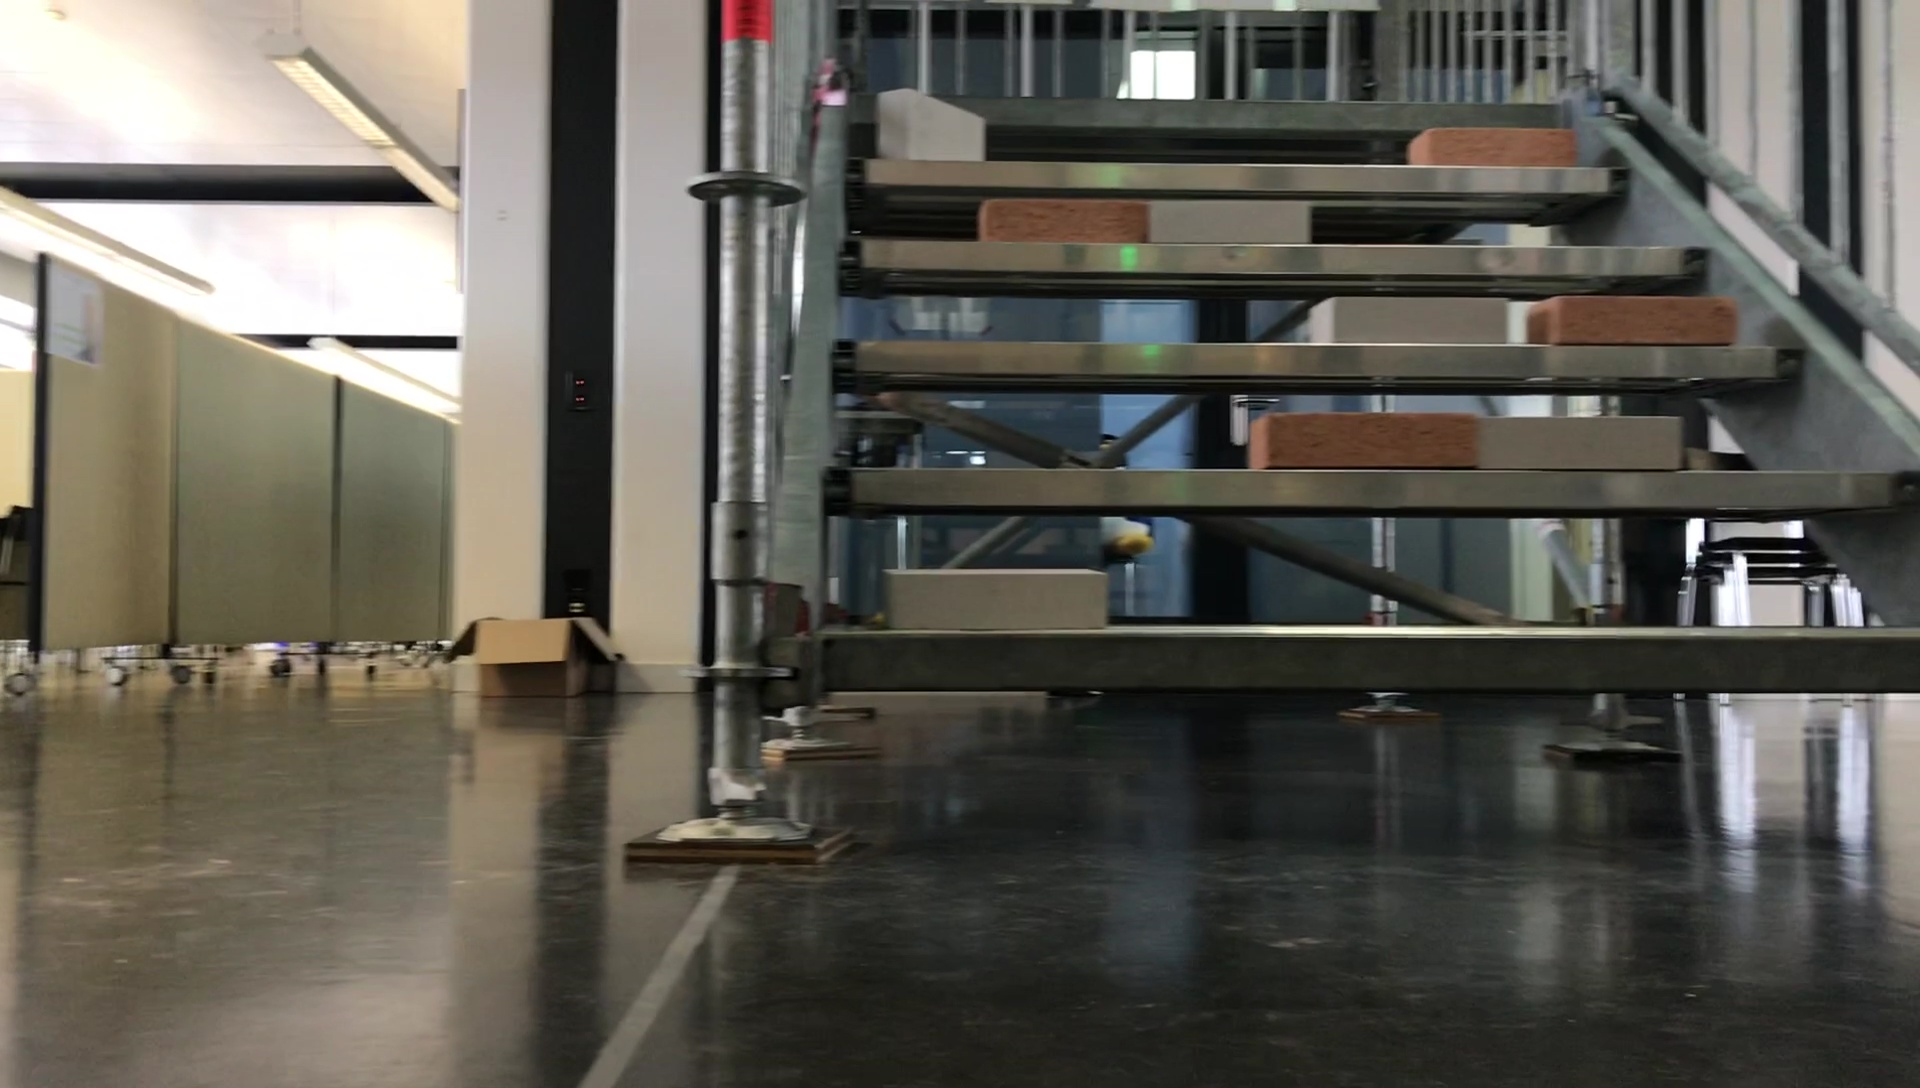brick: (874, 553, 1112, 633), (1255, 404, 1462, 471), (1476, 406, 1689, 469), (1305, 294, 1506, 343), (1524, 295, 1747, 338), (1143, 199, 1311, 247), (874, 88, 981, 160), (971, 195, 1142, 239), (1407, 131, 1571, 169)
edge: (820, 630, 1920, 704), (811, 462, 1911, 496), (844, 154, 1636, 200), (833, 339, 1799, 376), (835, 240, 1713, 277), (843, 91, 1564, 121)
stairs: (673, 0, 1920, 859)
steps: (781, 84, 1920, 719)
